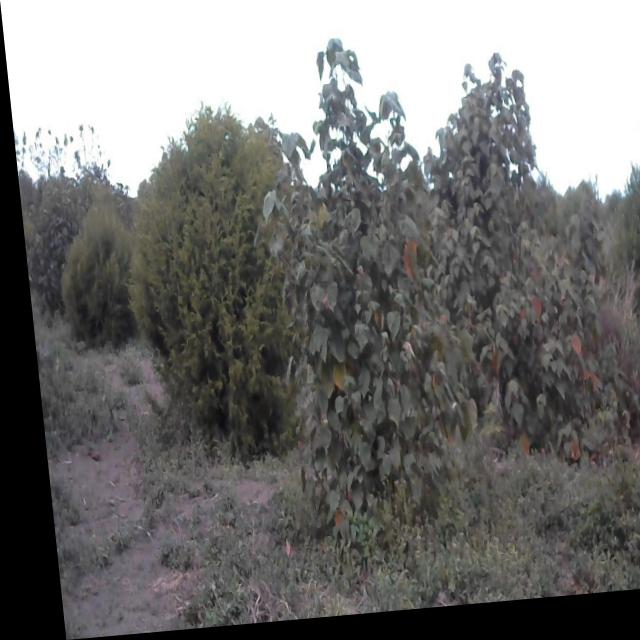cedrus: (123, 111, 284, 462), (56, 206, 129, 347)
other: (263, 39, 475, 538), (407, 42, 616, 464)
